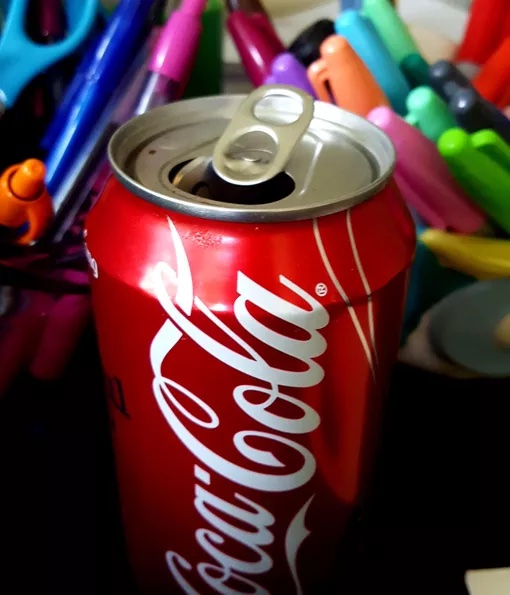can: (68, 76, 427, 587)
